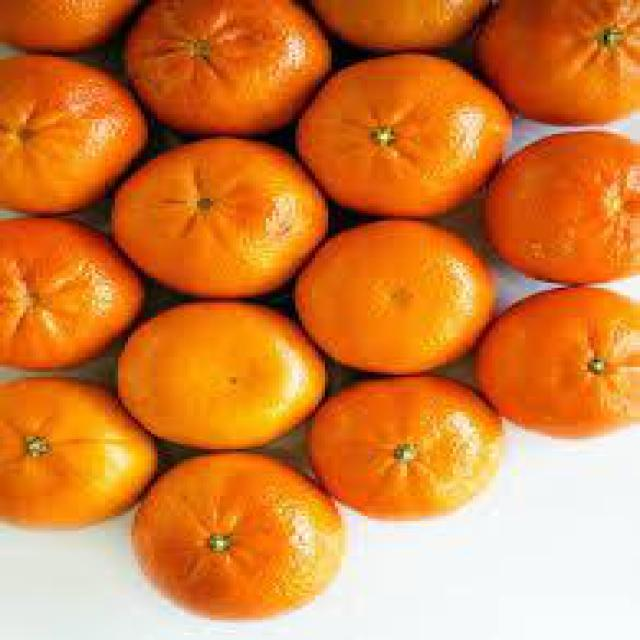orange: (299, 50, 515, 210), (132, 454, 342, 618), (114, 139, 322, 294), (297, 226, 506, 374), (116, 304, 320, 449), (310, 374, 520, 512), (124, 0, 325, 134), (477, 288, 637, 435), (485, 134, 639, 282), (2, 54, 144, 210), (2, 380, 152, 526), (2, 220, 140, 366), (482, 0, 637, 122), (314, 1, 488, 49), (0, 1, 138, 52)
